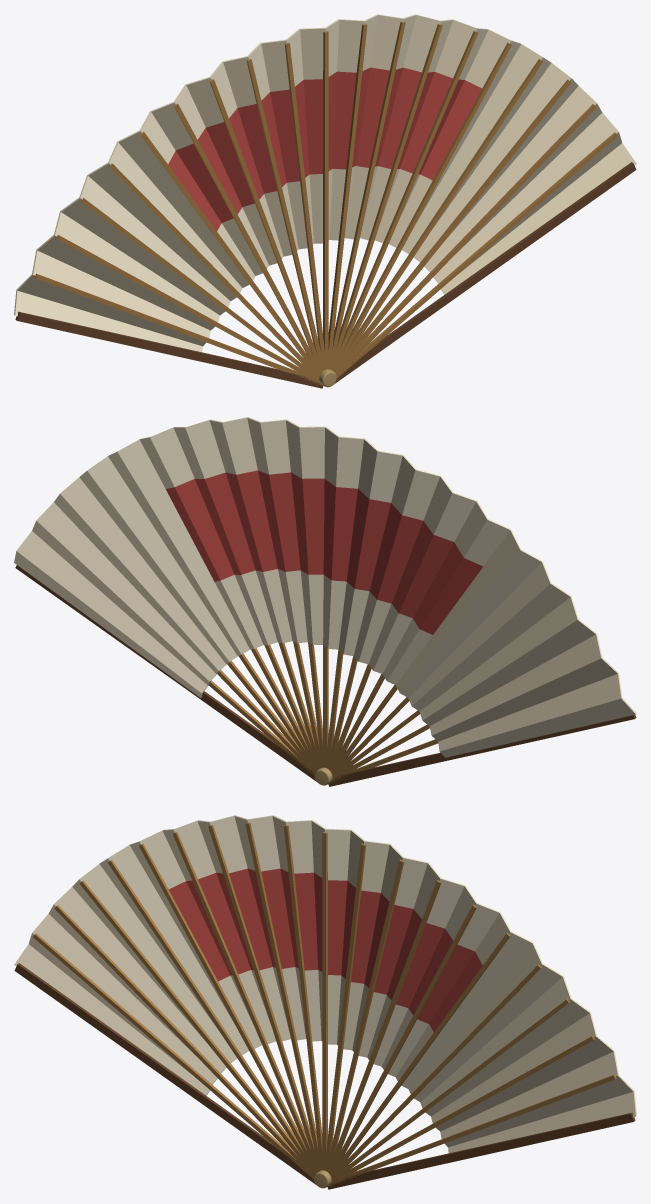
File: P006_folding_fan_rebuilt.glb
3 views of the same model, one above another, from view 1: azimuth 30°, elevation 25°; view 2: azimuth 150°, elevation 25°; view 3: azimuth 330°, elevation 25° (orthographic).
Parts seen in each view (by area): view 1: Fan_ivory_washi, Fan_bamboo_ribs, Fan_dark_outer_guard_sticks; view 2: Fan_ivory_washi, Fan_bamboo_ribs, Fan_dark_outer_guard_sticks; view 3: Fan_ivory_washi, Fan_bamboo_ribs, Fan_dark_outer_guard_sticks.
Boxes of the visible parts, <box> form: Fan_ivory_washi: <box>14,14,636,352</box>; Fan_bamboo_ribs: <box>34,22,617,385</box>; Fan_dark_outer_guard_sticks: <box>15,162,636,388</box>; Fan_ivory_washi: <box>14,417,636,757</box>; Fan_bamboo_ribs: <box>209,641,438,783</box>; Fan_dark_outer_guard_sticks: <box>15,565,636,786</box>; Fan_ivory_washi: <box>14,815,636,1153</box>; Fan_bamboo_ribs: <box>33,823,616,1186</box>; Fan_dark_outer_guard_sticks: <box>14,963,635,1189</box>.
Size of the model in its own units: 0.4093 by 0.2255 by 0.0131.
